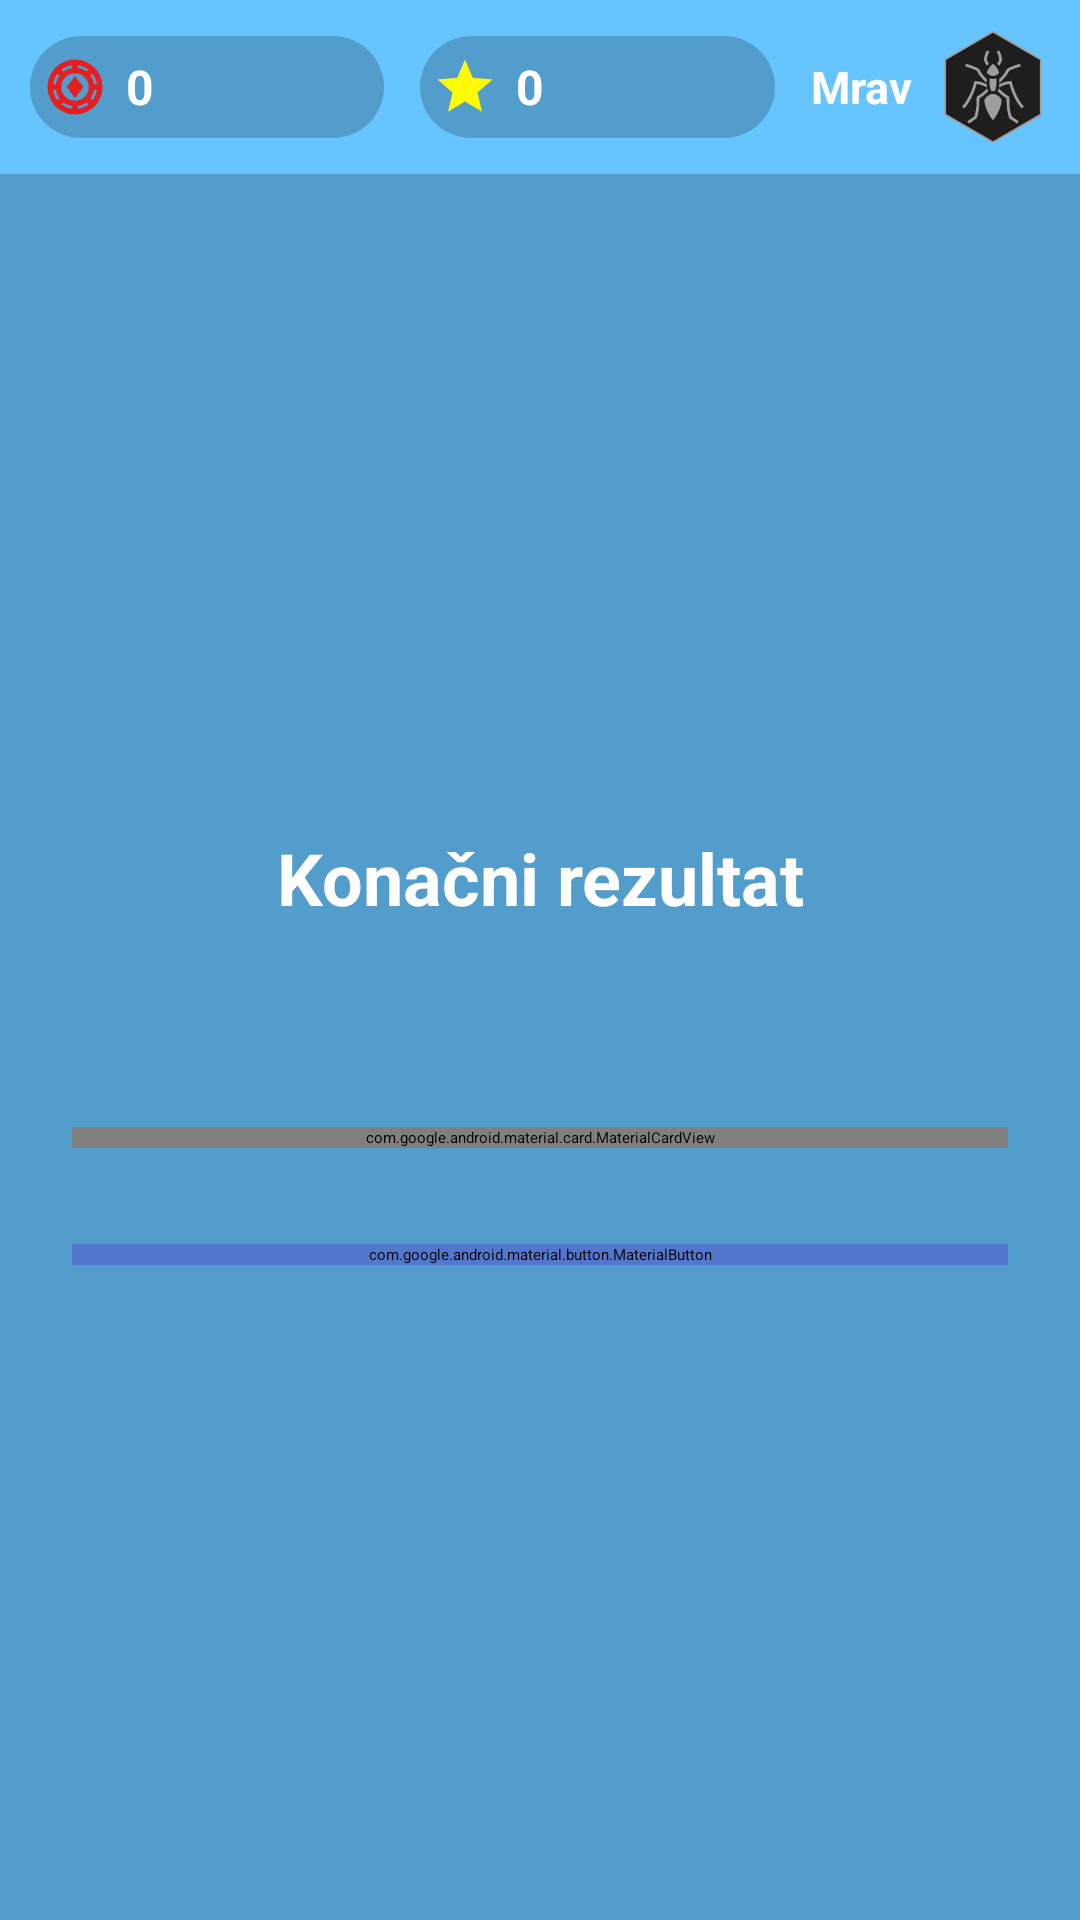

Screen size 1080 × 1920. Icon name, then its center in pixels as [x,y]:
Liga: [993,87]
Tokeni: [75,87]
Zvezde: [465,86]
